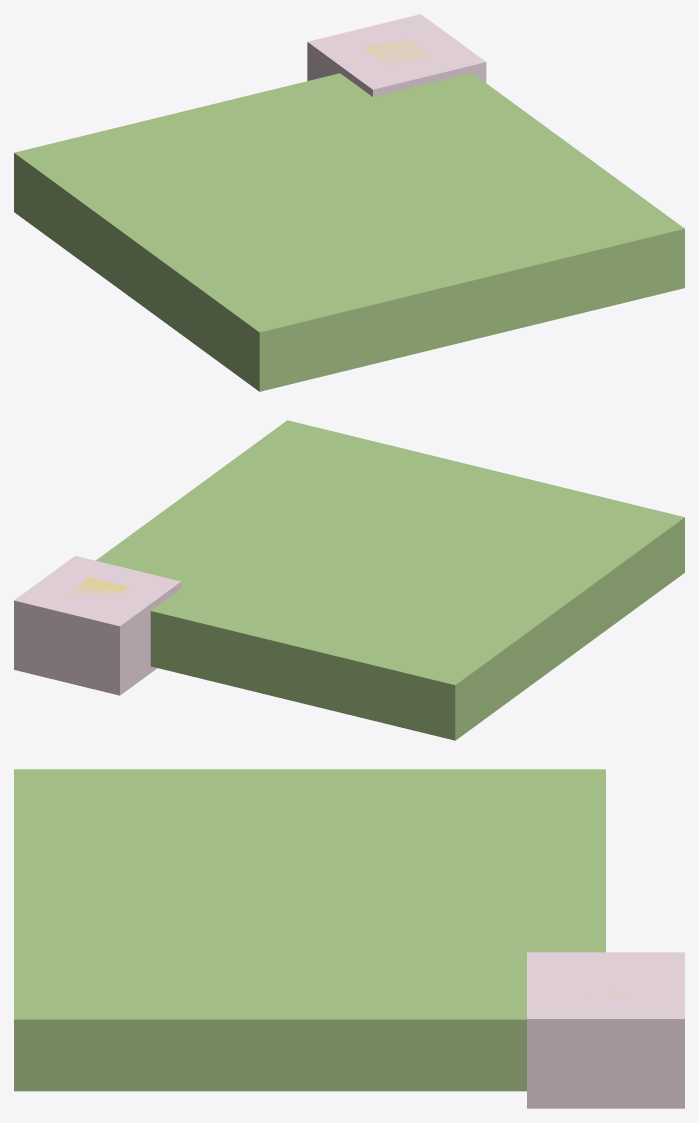
File: tornozeleira_flores.glb
3 views of the same model, one above another, from view 1: azimuth 30°, elevation 25°; view 2: azimuth 150°, elevation 25°; view 3: azimuth 270°, elevation 25° (orthographic). The views are drawn at different scales.
Visible parts, largest first — view 1: tornozeleira_flores; view 2: tornozeleira_flores; view 3: tornozeleira_flores.
Boxes of the visible parts, bbox=[...] form: tornozeleira_flores: bbox=[14, 14, 684, 391]; tornozeleira_flores: bbox=[14, 420, 684, 740]; tornozeleira_flores: bbox=[14, 769, 684, 1108].
Bounding box in the file's own units: 0.31 × 0.05 × 0.34.
